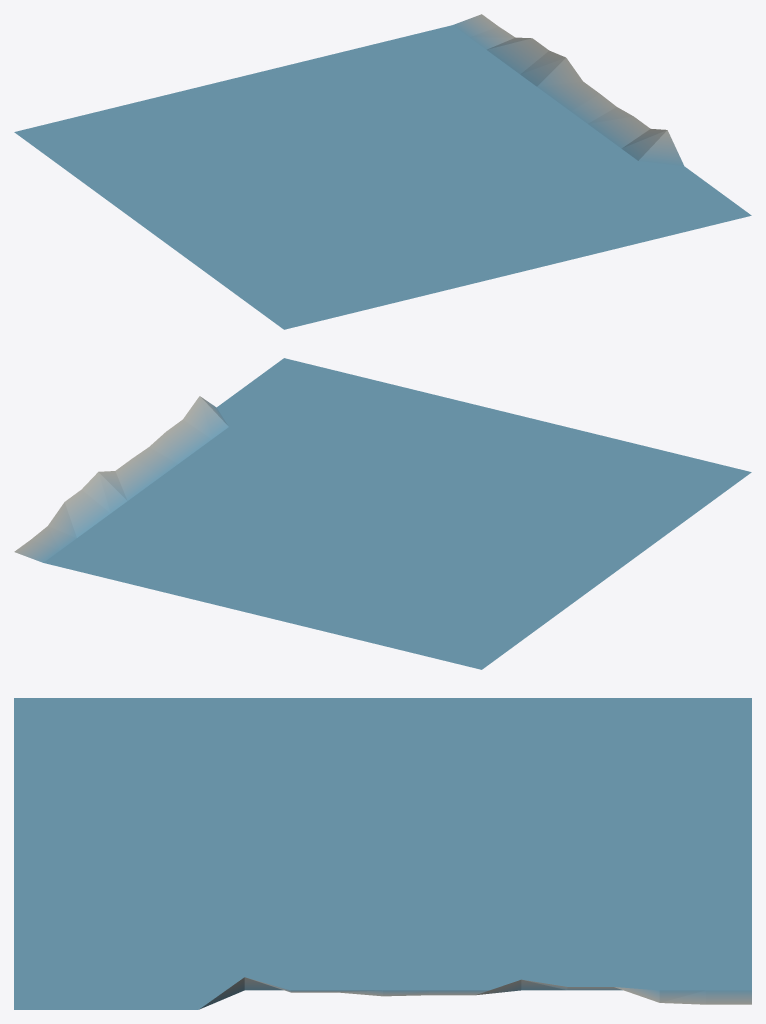
3 views of the same model, one above another, from view 1: azimuth 30°, elevation 25°; view 2: azimuth 150°, elevation 25°; view 3: azimuth 270°, elevation 25° (orthographic). The views are drawn at different scales.
Size of the model in its own units: 32 by 1.57 by 32.
